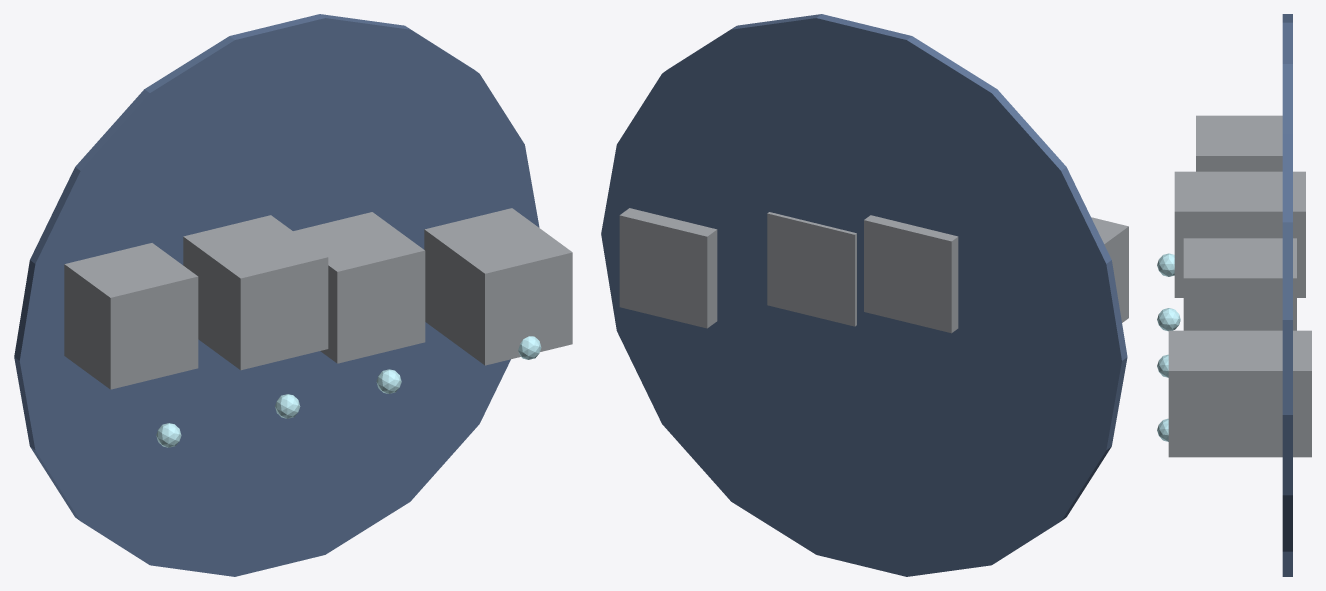
The model's file is 02_display_prop_cluster.glb.
3 views of the same model, side by side, from view 1: azimuth 30°, elevation 25°; view 2: azimuth 150°, elevation 25°; view 3: azimuth 270°, elevation 25° (orthographic). The views are drawn at different scales.
Parts seen in each view (by area): view 1: scatter_base, tech_crate_3, tech_crate_1, tech_crate_0, tech_crate_2; view 2: scatter_base, tech_crate_3, tech_crate_1, tech_crate_2, tech_crate_0; view 3: tech_crate_3, tech_crate_2, tech_crate_1, scatter_base, tech_crate_0, status_light_1, status_light_0, status_light_2, status_light_3.
Boxes of the visible parts, bbox=[...] form: scatter_base: bbox=[14, 14, 539, 576]; tech_crate_3: bbox=[424, 208, 572, 365]; tech_crate_1: bbox=[183, 215, 328, 370]; tech_crate_0: bbox=[64, 243, 198, 389]; tech_crate_2: bbox=[293, 212, 425, 363]; scatter_base: bbox=[601, 14, 1127, 576]; tech_crate_3: bbox=[619, 208, 717, 328]; tech_crate_1: bbox=[864, 215, 958, 333]; tech_crate_2: bbox=[767, 212, 856, 326]; tech_crate_0: bbox=[1091, 217, 1128, 322]; tech_crate_3: bbox=[1168, 330, 1311, 457]; tech_crate_2: bbox=[1183, 238, 1296, 330]; tech_crate_1: bbox=[1174, 171, 1305, 297]; scatter_base: bbox=[1282, 14, 1292, 576]; tech_crate_0: bbox=[1196, 115, 1282, 171]; status_light_1: bbox=[1157, 308, 1180, 331]; status_light_0: bbox=[1157, 253, 1174, 276]; status_light_2: bbox=[1157, 354, 1168, 377]; status_light_3: bbox=[1157, 418, 1168, 441].
Bounding box in the file's own units: 1.9 × 1.87 × 0.5208.
